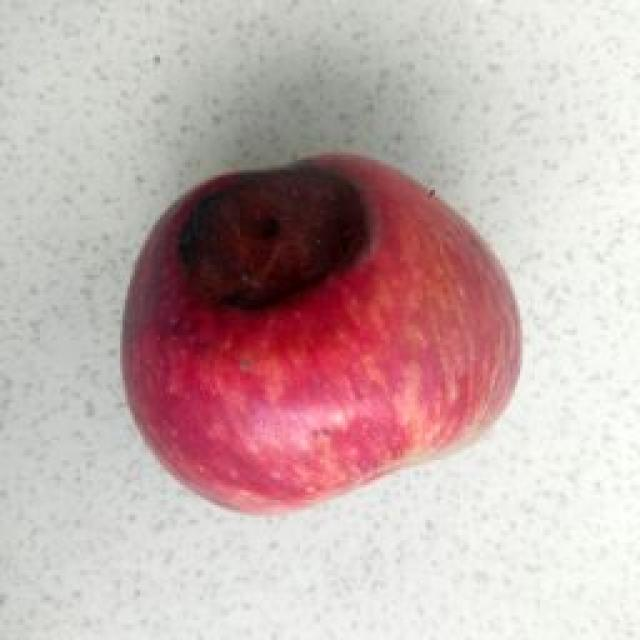Bad_Apple: (122, 155, 519, 512)
